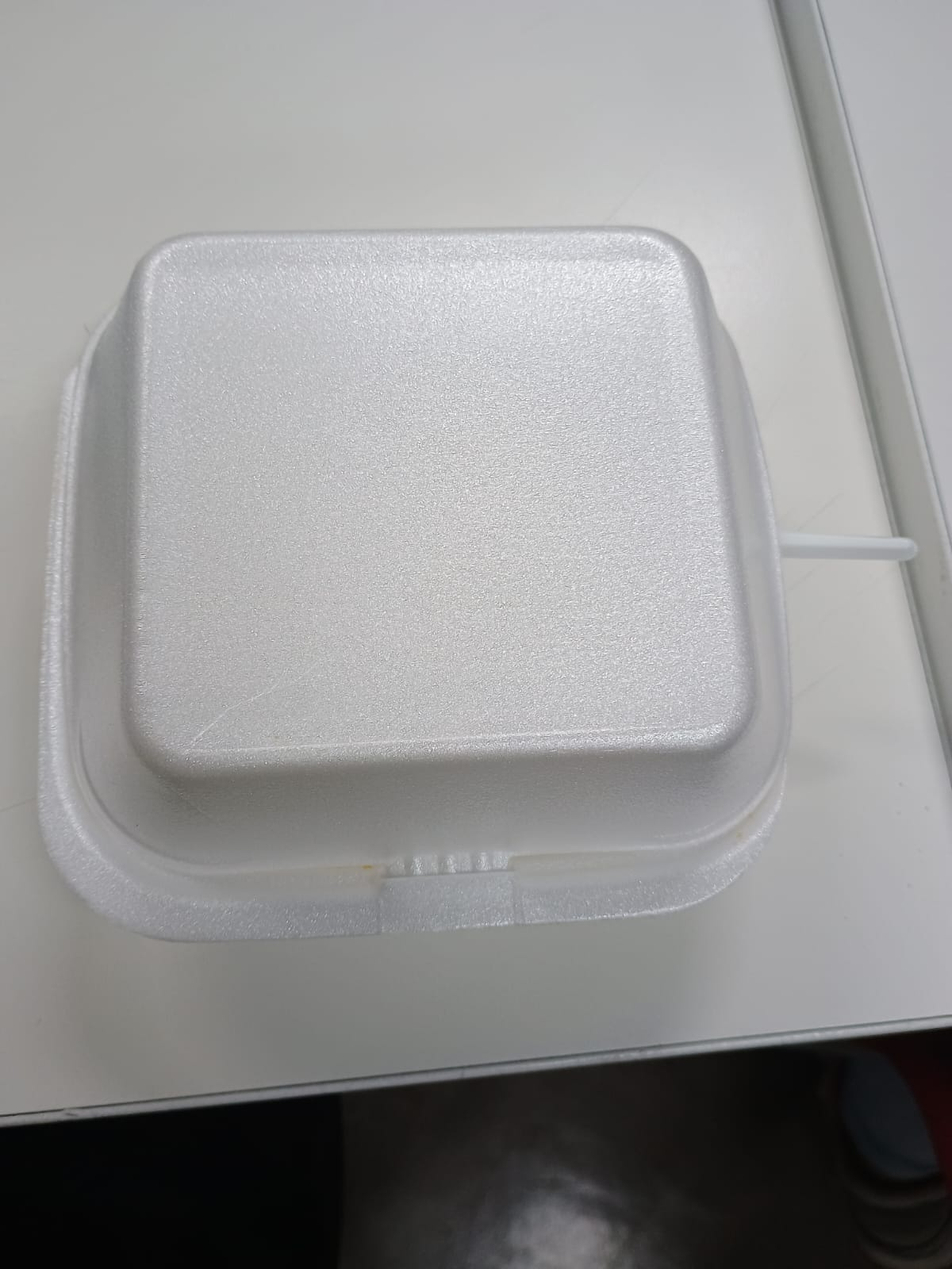Ordinario: (35, 223, 793, 940)
